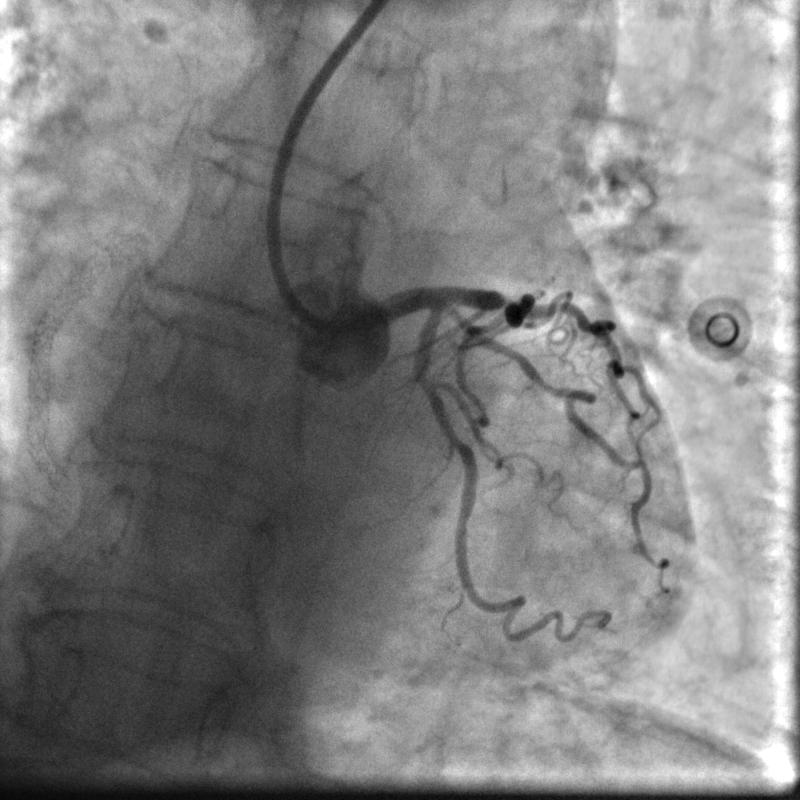Stenosis: (412, 371, 437, 394)
